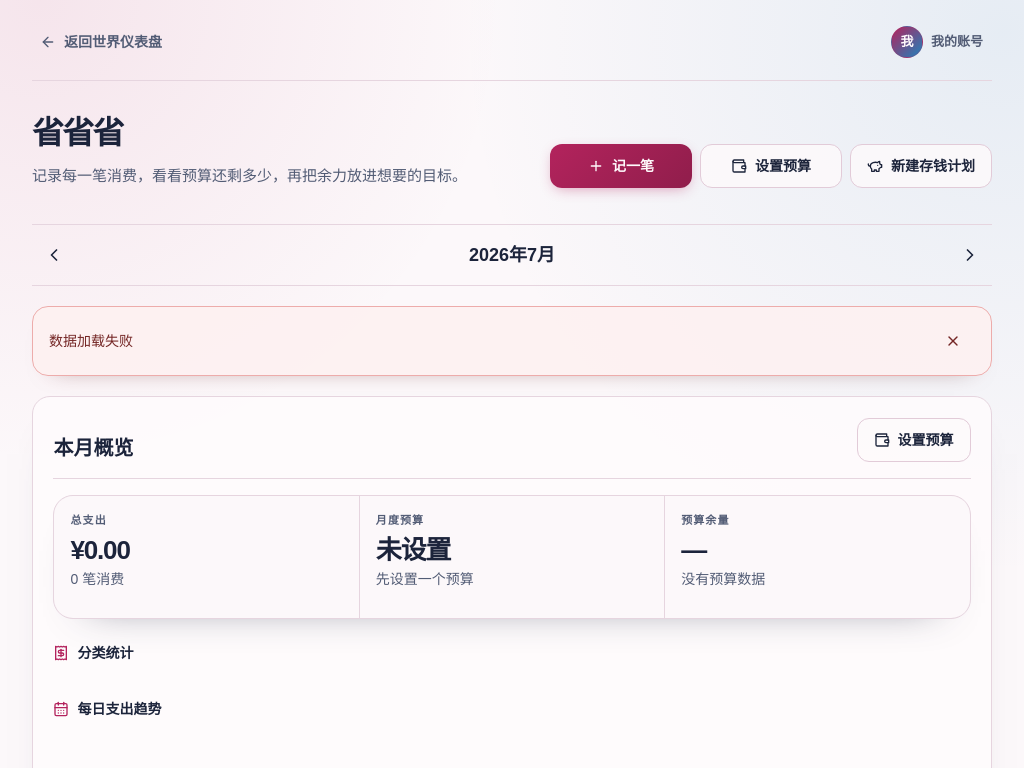
Test: Finance page › renders store errors and successful mutation status
Expected: the message reads "数据加载失败", [49,333,133,349]
Click the button named "关闭错误提示" at (953,341), box [931,319,975,363]
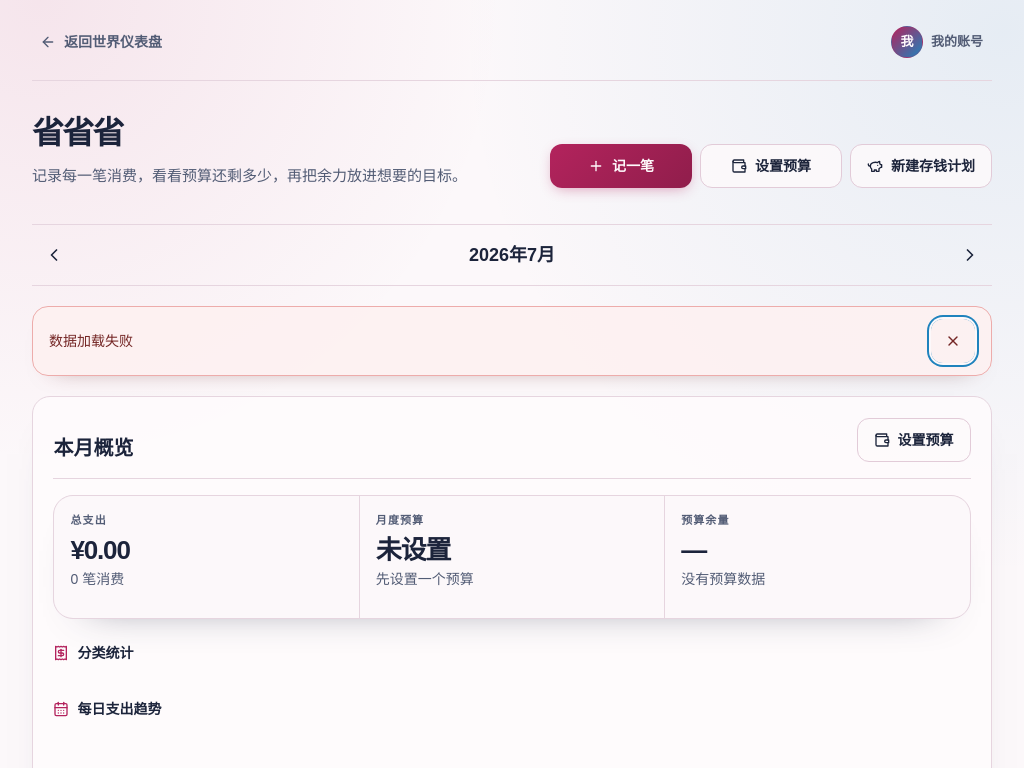
Click the button "设置预算" in the row of "记录每一笔消费，看看预算还剩多少，再把余力放进想要的目标。" at (771,166), box [700,144,842,188]
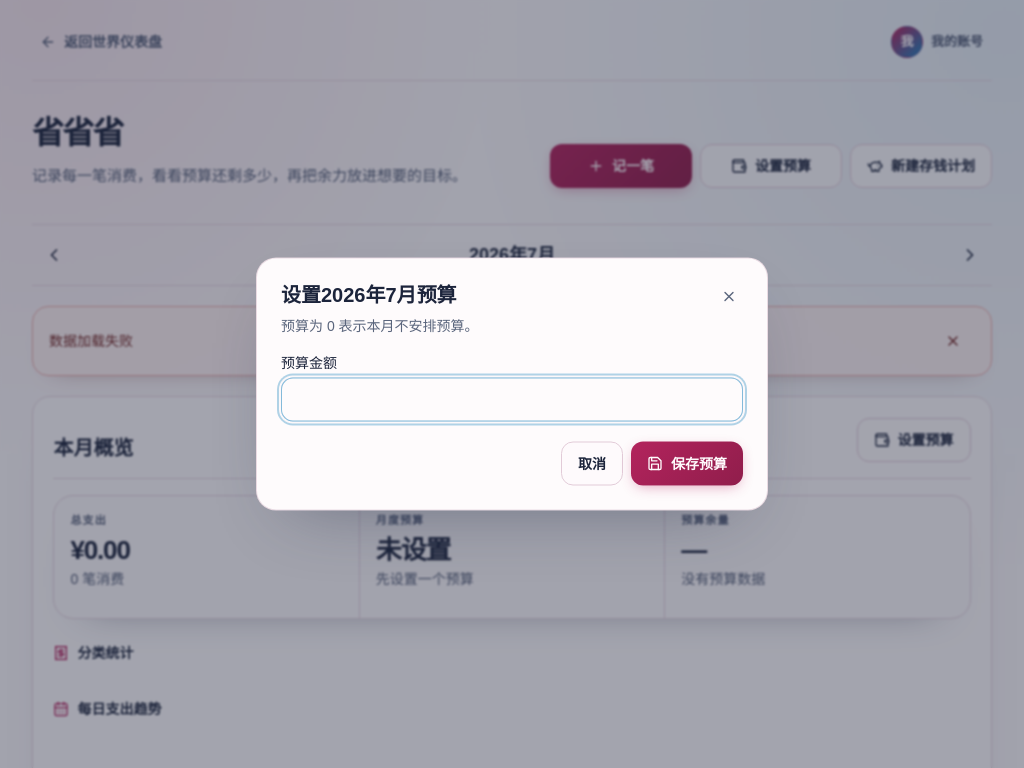
Type "300" into the field labelled "预算金额" at (512,400), box [281,378,743,422]
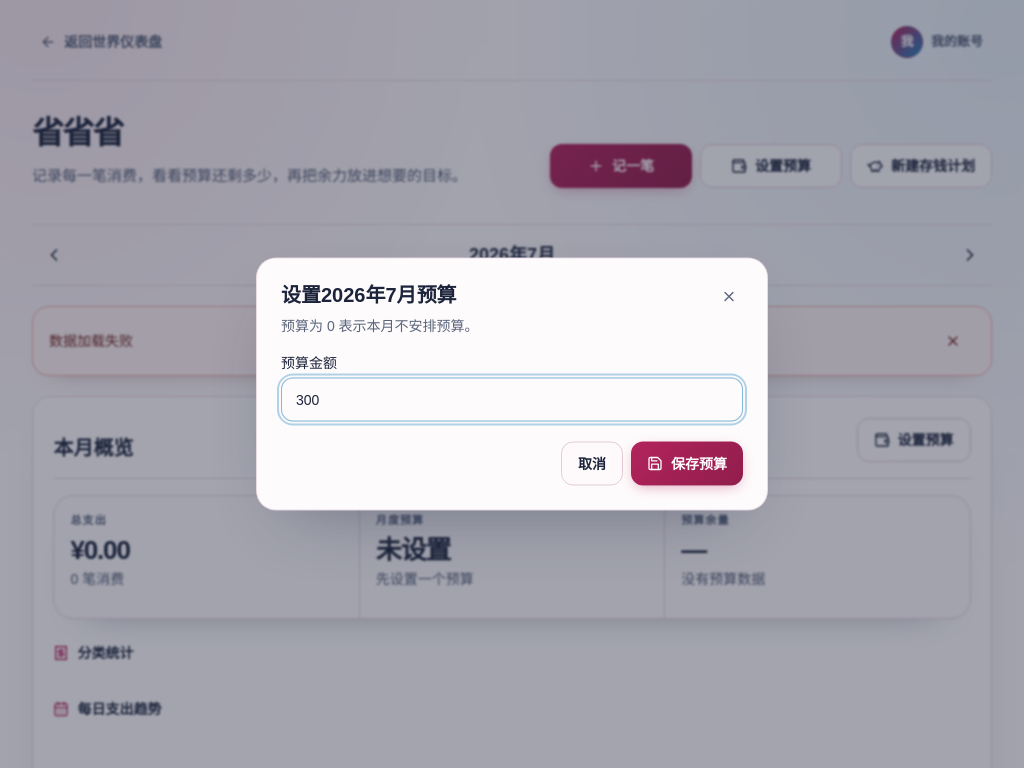
Click the button "保存预算" at (687,464), box [631,442,743,486]
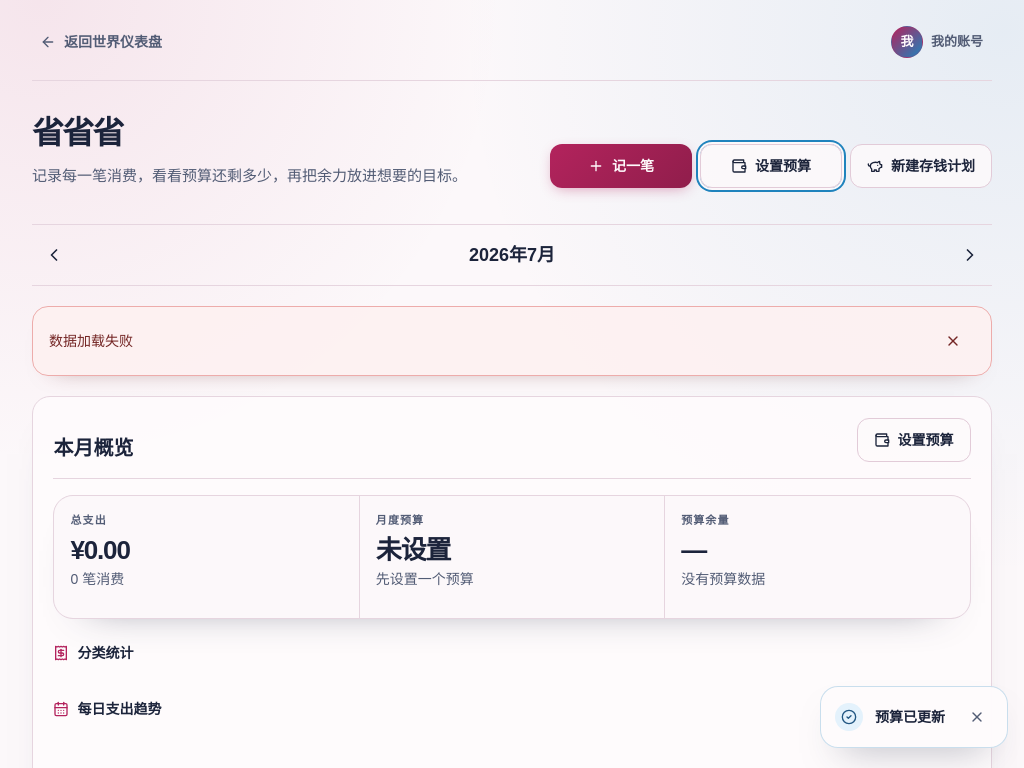
Now the message "预算已更新" is shown, box [820,686,1008,748]
